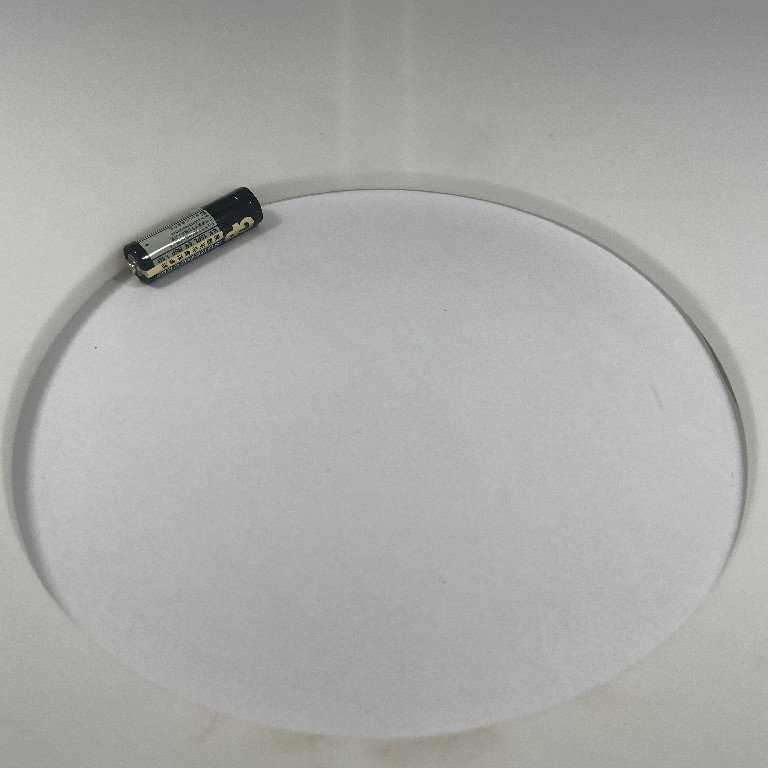charge: (118, 179, 270, 287)
